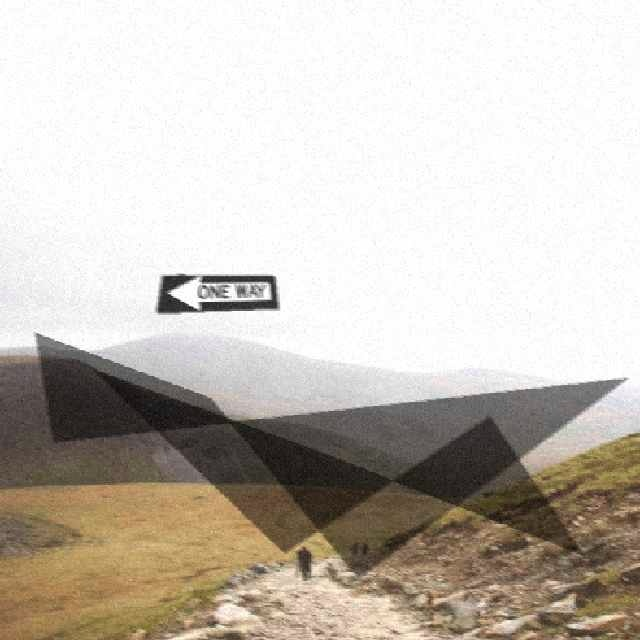ONE_WAY_ left: (154, 272, 278, 312)
